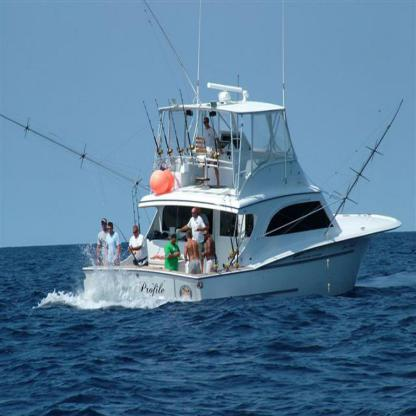face: (134, 229, 139, 237), (192, 211, 197, 219), (103, 223, 108, 230), (109, 226, 113, 234), (205, 120, 209, 128), (173, 238, 177, 245), (205, 232, 209, 239)
